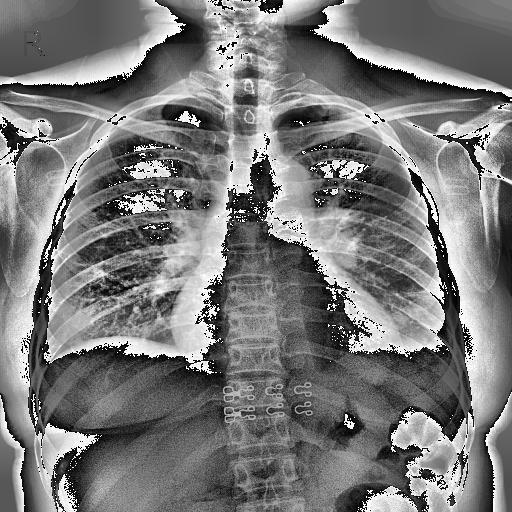10- Pleural effusion: (420, 319, 460, 382), (428, 328, 458, 377)
11- Pleural thickening: (420, 319, 460, 382), (428, 328, 458, 377)
3- Cardiomegaly: (170, 298, 400, 372), (172, 286, 406, 358), (169, 294, 400, 366)
